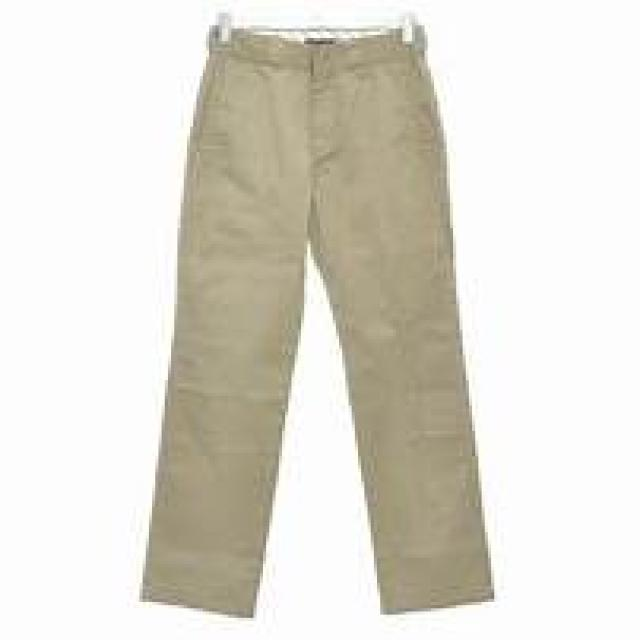long-pants: (142, 19, 498, 620)
